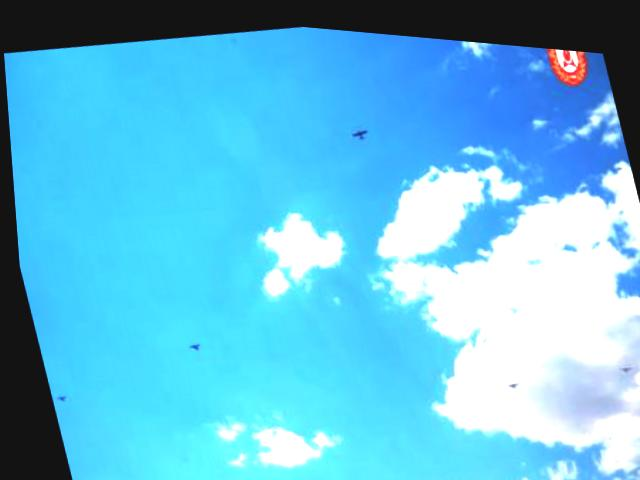uav: (346, 118, 371, 138), (183, 336, 198, 350), (501, 372, 515, 381)
